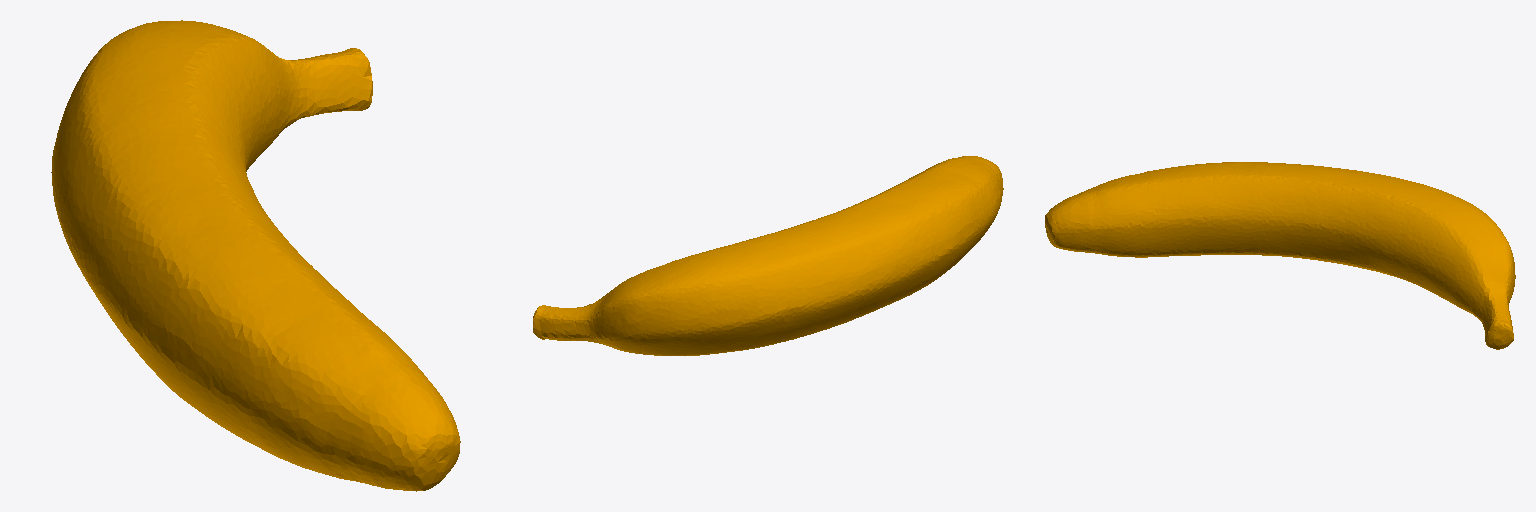
robot.urdf — scaled_textured_simple:
<?xml version='1.0' encoding='utf-8'?>
<robot name="scaled_textured_simple">
  <link name="base_link">
    <visual>
      <origin xyz="0 0 0" rpy="0 0 0" />
      <geometry>
        <mesh filename="scaled_textured_simple.obj" />
      </geometry>
    </visual>
    <collision>
      <origin xyz="0 0 0" rpy="0 0 0" />
      <geometry>
        <mesh filename="scaled_textured_simple.obj" />
      </geometry>
    </collision>
    <inertial>
      <origin xyz="0 0 0" rpy="0 0 0" />
      <mass value="0.2" />
      <inertia ixx="4.36702940e-04" ixy="-1.29000020e-04" ixz="3.08015462e-06" iyy="9.02257446e-05" iyz="-2.59862256e-06" izz="4.97053882e-04" />
    </inertial>
  </link>
</robot>

--- Render facts (derived) ---
3 views of the same robot in one strip: view 1: azimuth 30°, elevation 25°; view 2: azimuth 150°, elevation 25°; view 3: azimuth 270°, elevation 25° (orthographic).
Model scaled_textured_simple with 1 links and 0 joints (none), rooted at base_link, posed all joints at 0.
Links seen in each view (by area): view 1: base_link; view 2: base_link; view 3: base_link.
Boxes of the visible links, box(x1,y1,x2,y2) form: base_link: box(51, 20, 460, 491); base_link: box(533, 156, 1003, 355); base_link: box(1045, 162, 1515, 349).
Size in the robot's own frame: 0.1089 by 0.1784 by 0.0367 metres.
1 mesh visuals loaded from 1 distinct referenced files (1 OBJ).